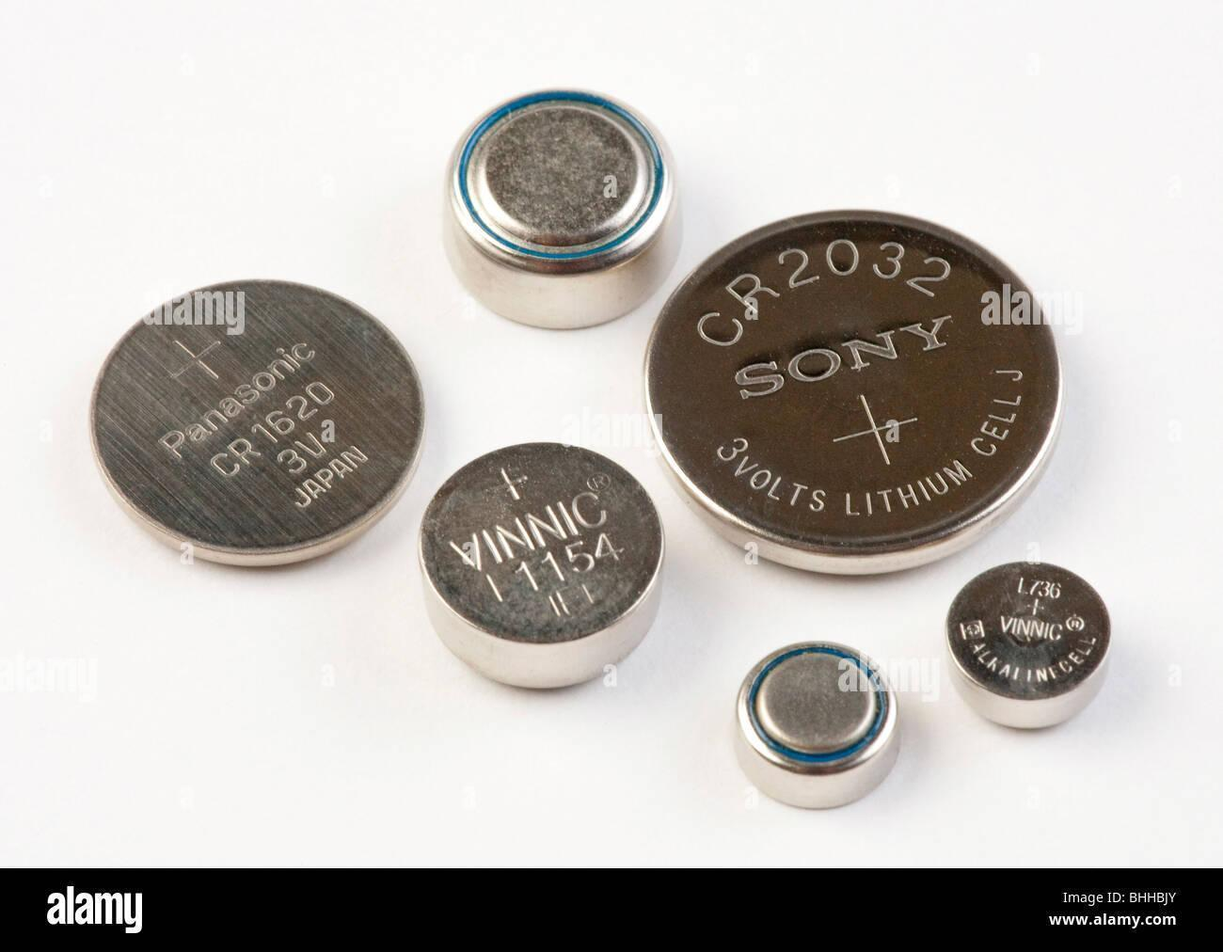COIN: (639, 202, 1073, 586), (80, 274, 434, 575), (415, 438, 667, 697), (437, 84, 690, 340), (940, 551, 1116, 741), (724, 635, 908, 816)
